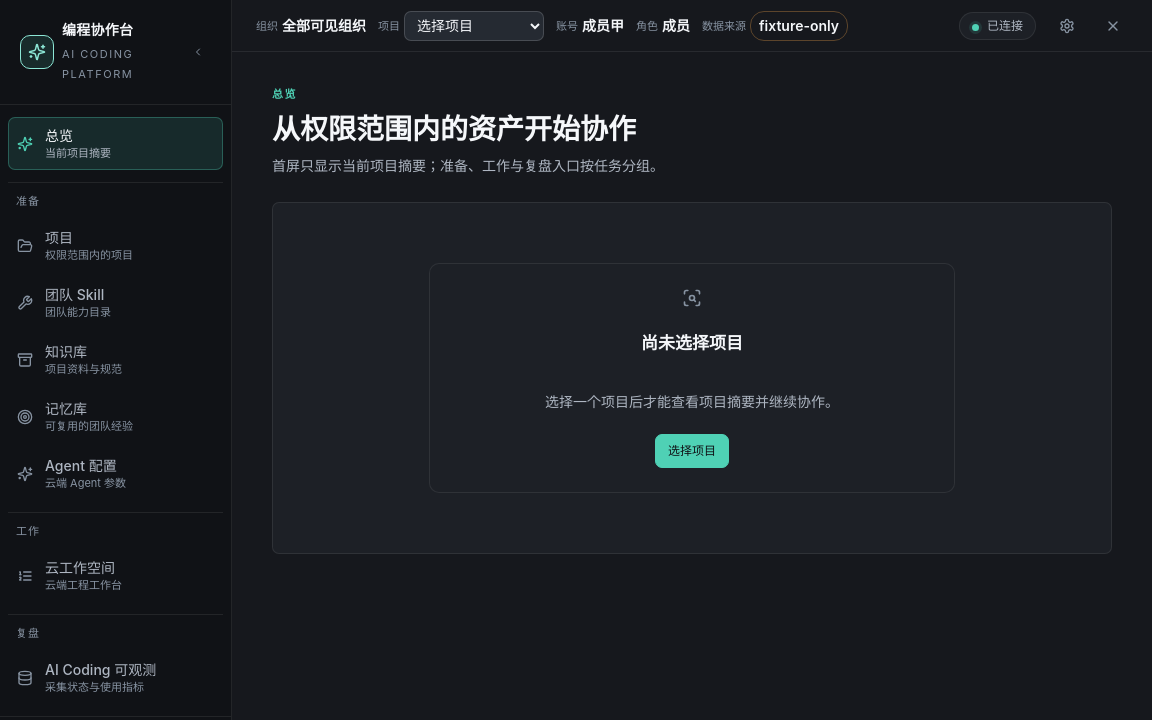
Test: UX-04 知识库与记忆库 › gives memory rows explicit 查看/编辑/删除 actions and a scope-aware delete confirm
Select "AI开放平台" in the dropdown named "当前项目": coordinates (474, 26) x1=404 y1=10 x2=544 y2=40
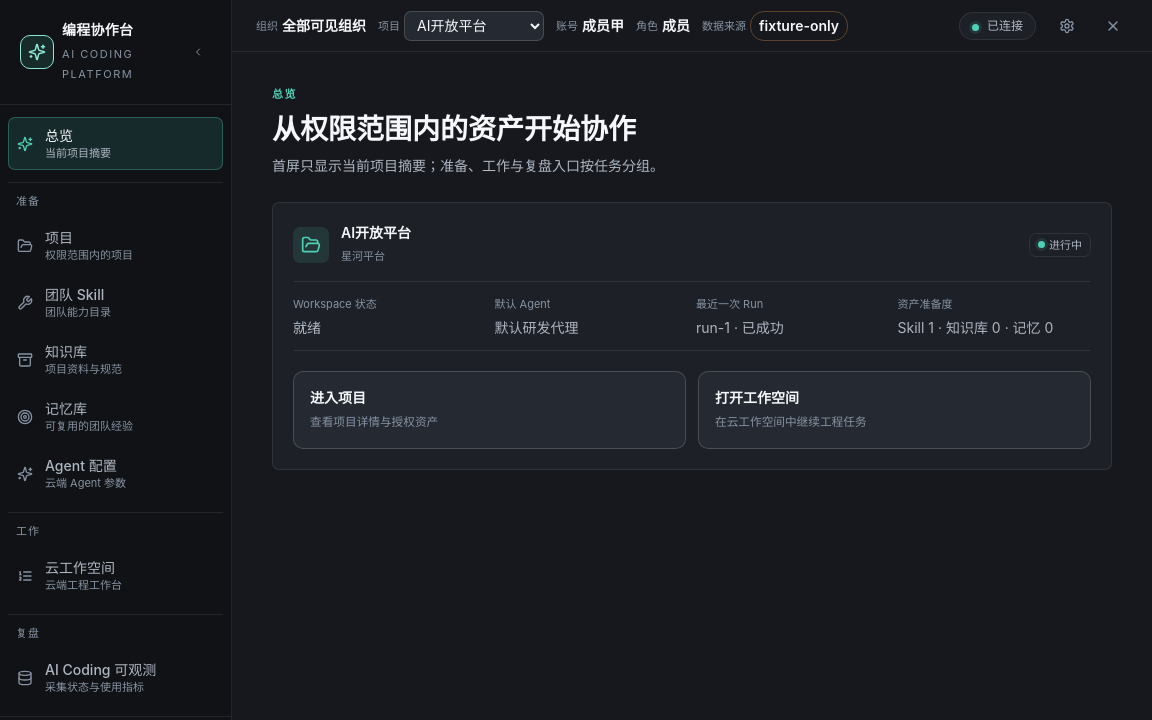
Click the button "记忆库 可复用的团队经验": coordinates (116, 416) x1=8 y1=390 x2=223 y2=443
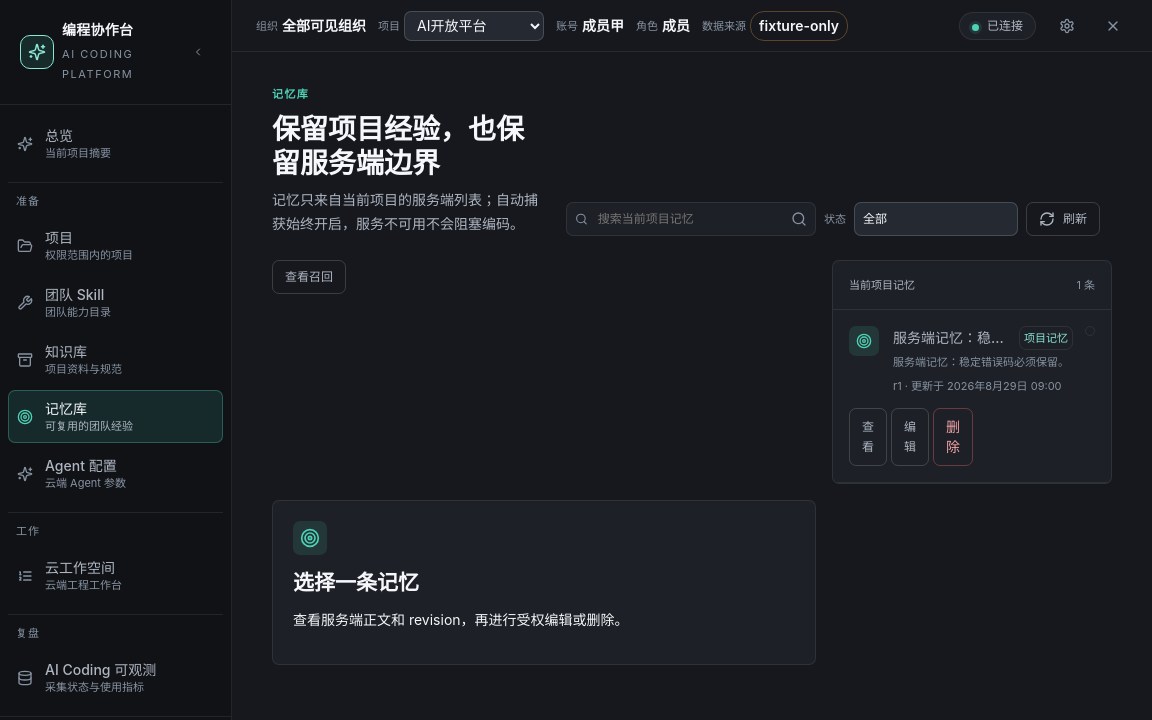
Expected: the button with aria-label "查看记忆 m-1" is shown, x1=849 y1=408 x2=887 y2=466
Expected: the button with aria-label "编辑记忆 m-1" is shown, x1=891 y1=408 x2=929 y2=466
Click the button with aria-label "删除记忆 m-1": coordinates (953, 438) x1=933 y1=408 x2=973 y2=466
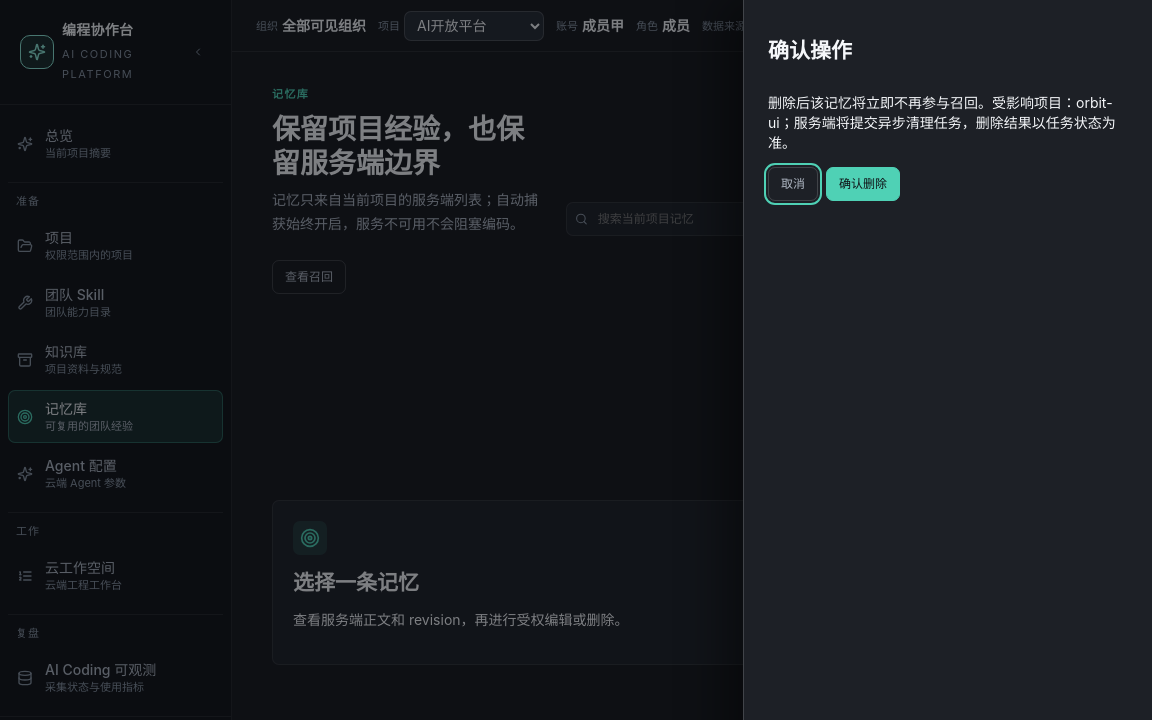
Expected: the text "删除后该记忆将立即不再参与召回。受影响项目：orbit-ui；服务端将提交异步清理任务，删除结果以任务状态为准。" is shown, x1=768 y1=93 x2=1128 y2=153
Click the button "确认删除": coordinates (863, 184) x1=826 y1=167 x2=900 y2=201
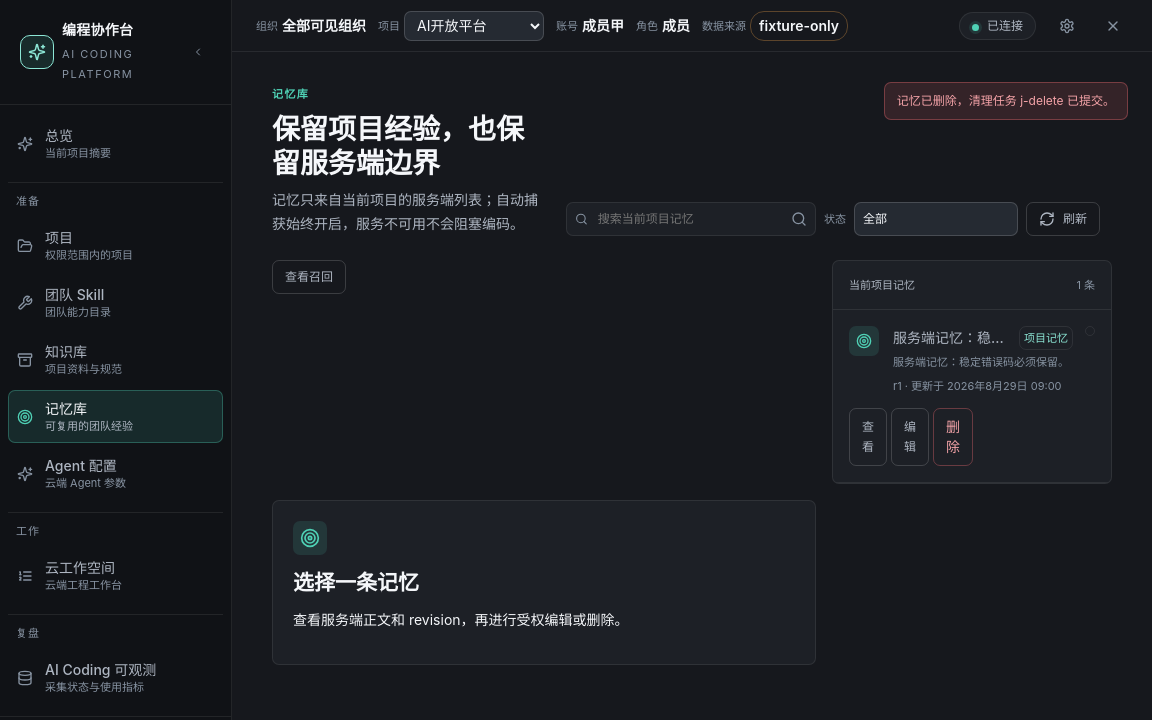
Expected: the text "记忆已删除，清理任务 j-delete 已提交。" is shown, x1=884 y1=82 x2=1128 y2=120
